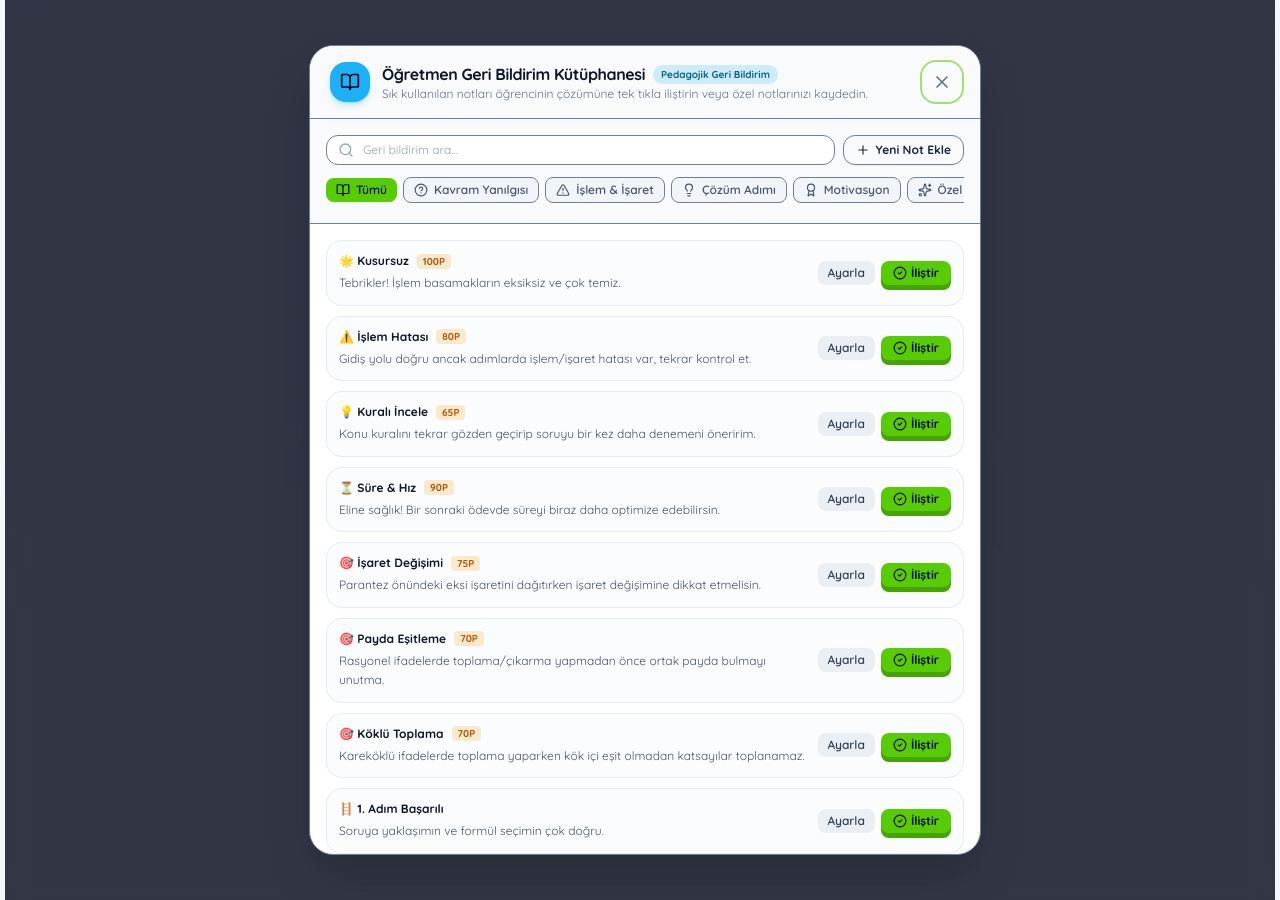
TeacherFeedbackLibraryModal Component › filters templates by search term
Step 1. Type "Payda Eşitleme" into the field with placeholder "Geri bildirim ara..." → (580, 150), box top-left (326, 135), bottom-right (834, 165)
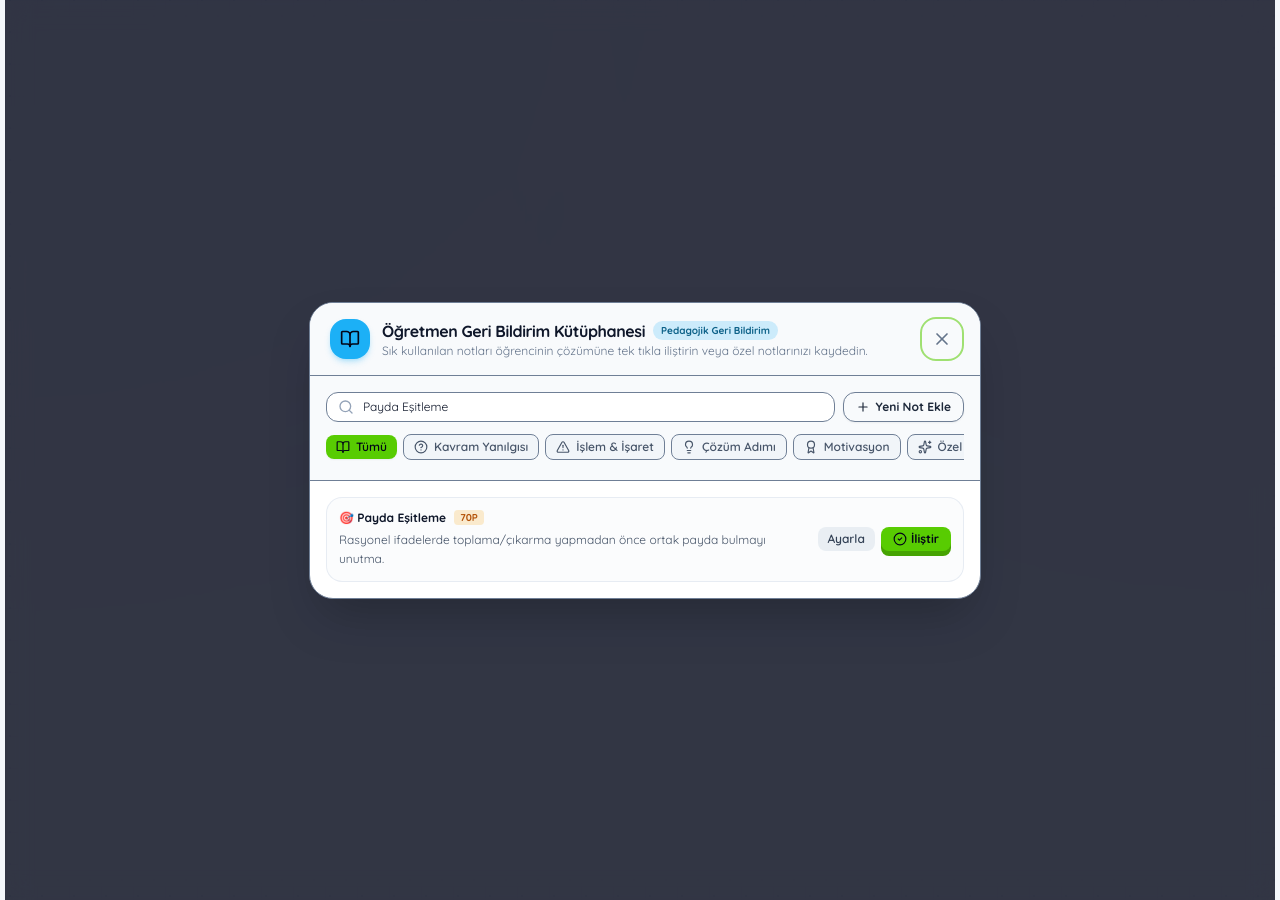
Check: the text "🎯 Payda Eşitleme" is shown, box top-left (339, 510), bottom-right (446, 526)
Check: the text "🌟 Kusursuz" is gone
